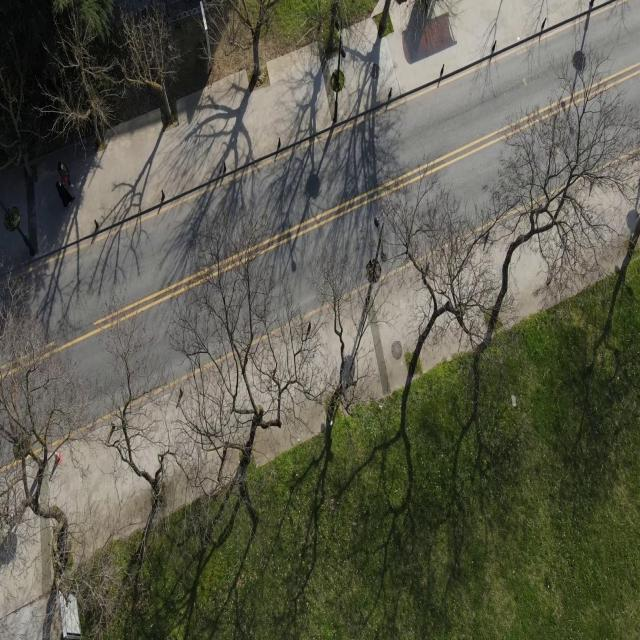p3rson: (55, 181, 75, 207), (57, 162, 74, 188)
